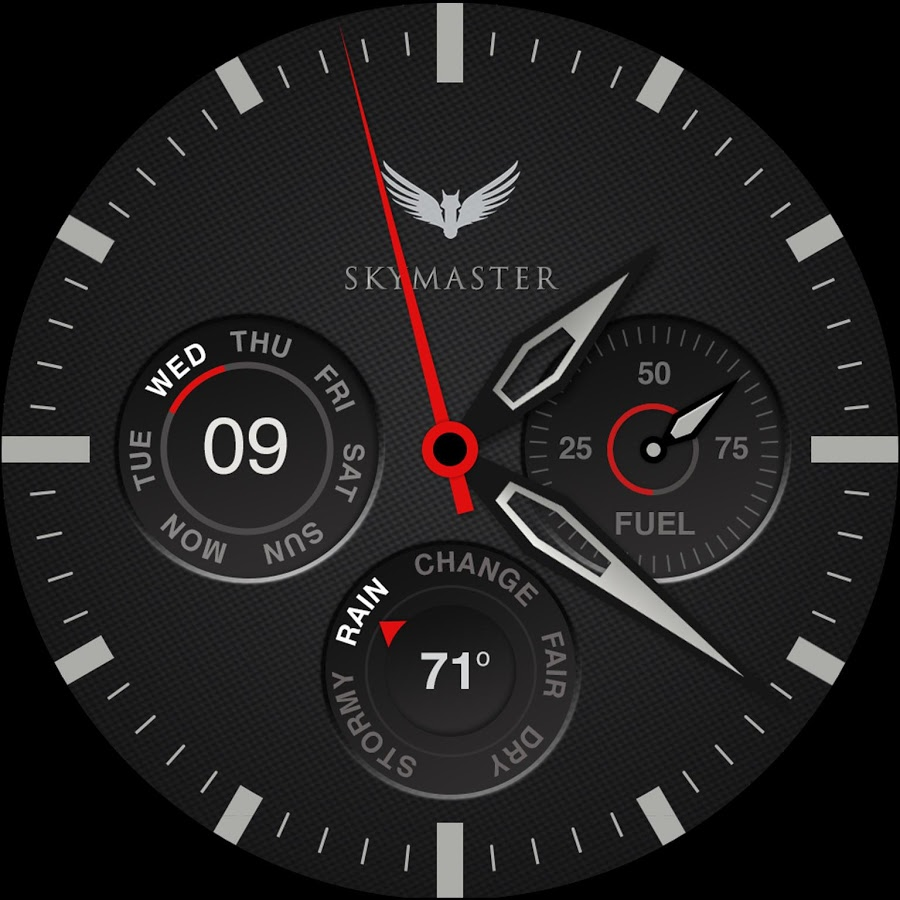clock: (1, 3, 900, 897)
